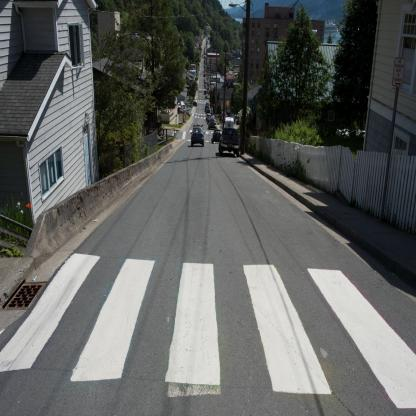Crosswalk: (1, 266, 416, 372)
